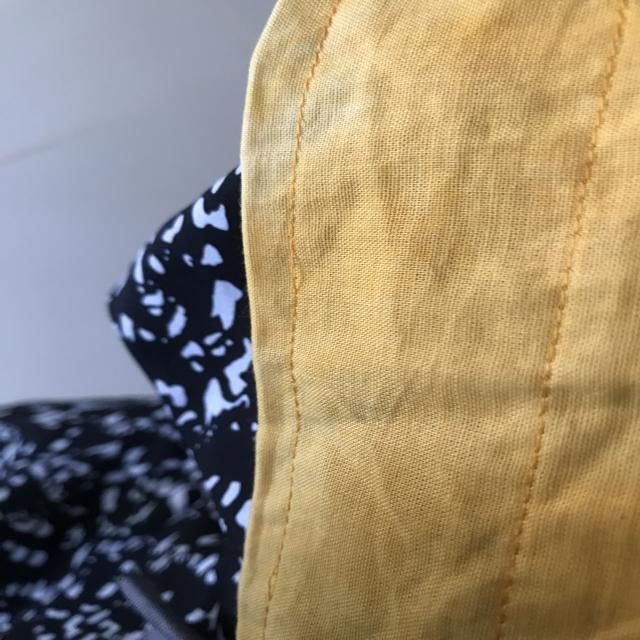skip: (283, 236, 307, 308)
